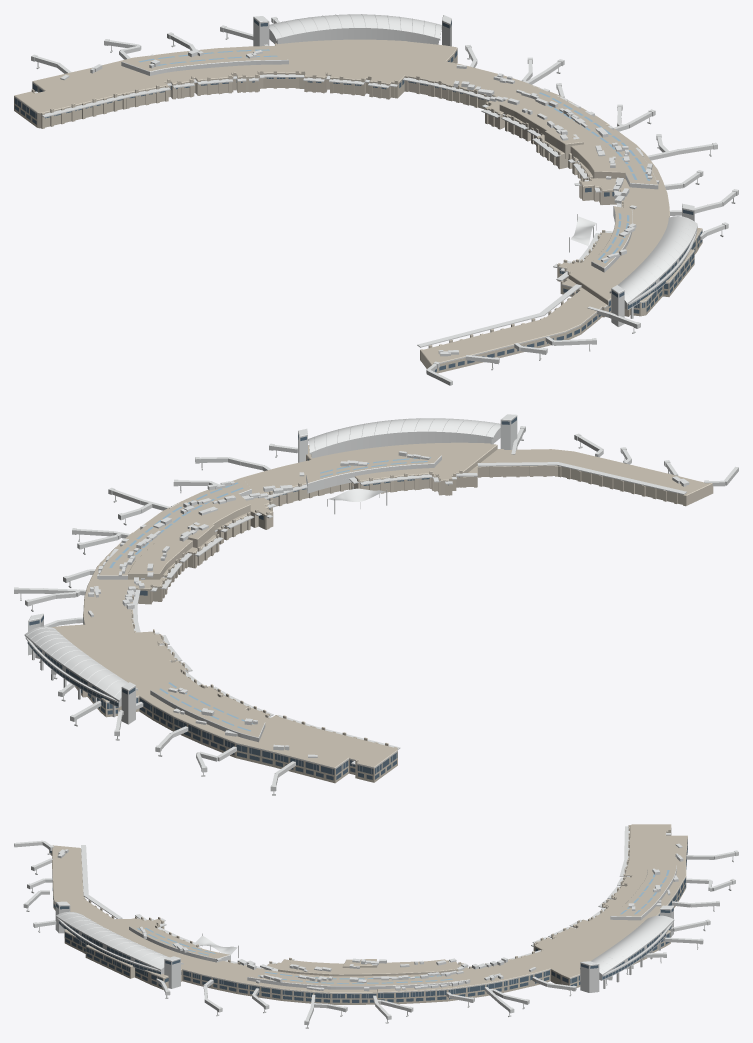
The model's file is dal-dfw-terminal-c.detail.glb.
3 views of the same model, one above another, from view 1: azimuth 30°, elevation 25°; view 2: azimuth 150°, elevation 25°; view 3: azimuth 270°, elevation 25° (orthographic). The views are drawn at different scales.
Parts seen in each view (by area): view 1: DFW Airport Terminal C; view 2: DFW Airport Terminal C; view 3: DFW Airport Terminal C.
Part boxes in pixels (x1,y1,x2,y2): DFW Airport Terminal C: (14, 14, 738, 385); DFW Airport Terminal C: (14, 414, 738, 795); DFW Airport Terminal C: (14, 824, 738, 1028).
Bounding box in the file's own units: 404 × 27.4 × 636.
